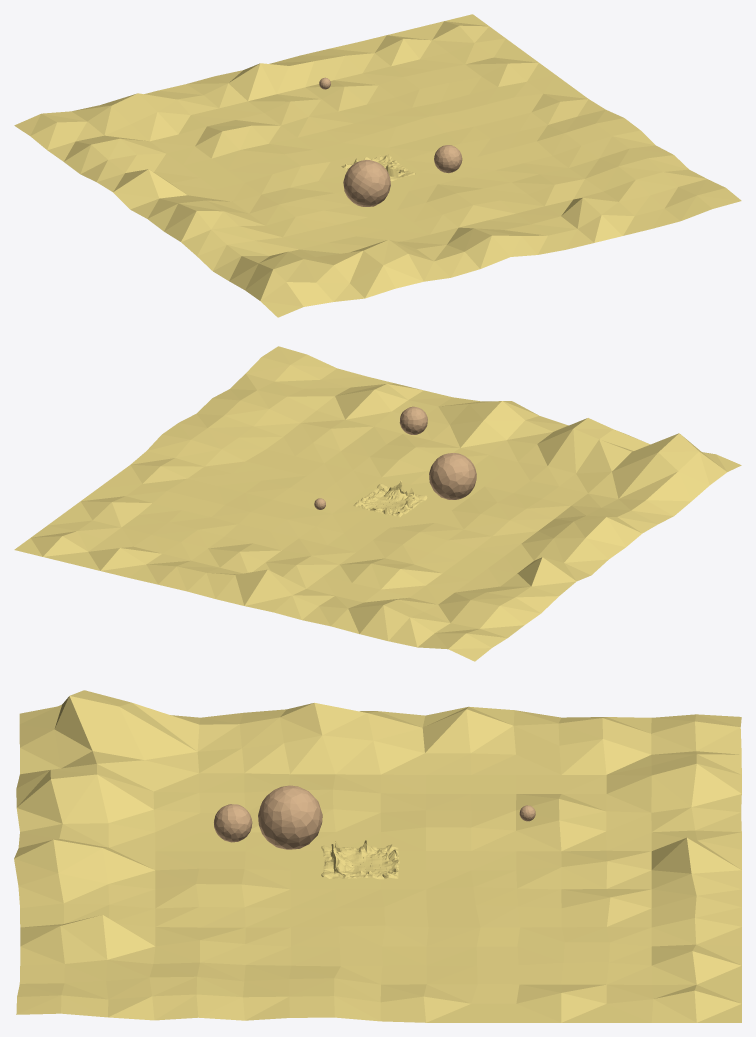
Rendered from sandy.dae.
The picture shows the model from 3 angles, top to bottom: view 1: azimuth 30°, elevation 25°; view 2: azimuth 150°, elevation 25°; view 3: azimuth 270°, elevation 25°; orthographic projection. The views are drawn at different scales.
Parts seen in each view (by area): view 1: Plane, ringed_planet_1, Sphere_001, landscape01; view 2: Plane, ringed_planet_1, landscape01, Sphere_001; view 3: Plane, ringed_planet_1, landscape01, Sphere_001.
Part boxes in pixels (left/top/right/bottom): Plane: left=14, top=14, right=741, bottom=317; ringed_planet_1: left=343, top=160, right=390, bottom=206; Sphere_001: left=434, top=145, right=462, bottom=173; landscape01: left=341, top=154, right=415, bottom=181; Plane: left=14, top=346, right=741, bottom=661; ringed_planet_1: left=429, top=453, right=476, bottom=499; landscape01: left=353, top=480, right=427, bottom=517; Sphere_001: left=399, top=406, right=427, bottom=434; Plane: left=14, top=690, right=741, bottom=1022; ringed_planet_1: left=258, top=785, right=322, bottom=849; landscape01: left=321, top=840, right=399, bottom=879; Sphere_001: left=214, top=804, right=252, bottom=842.
Bounding box in the file's own units: 284 × 282 × 34.8.
